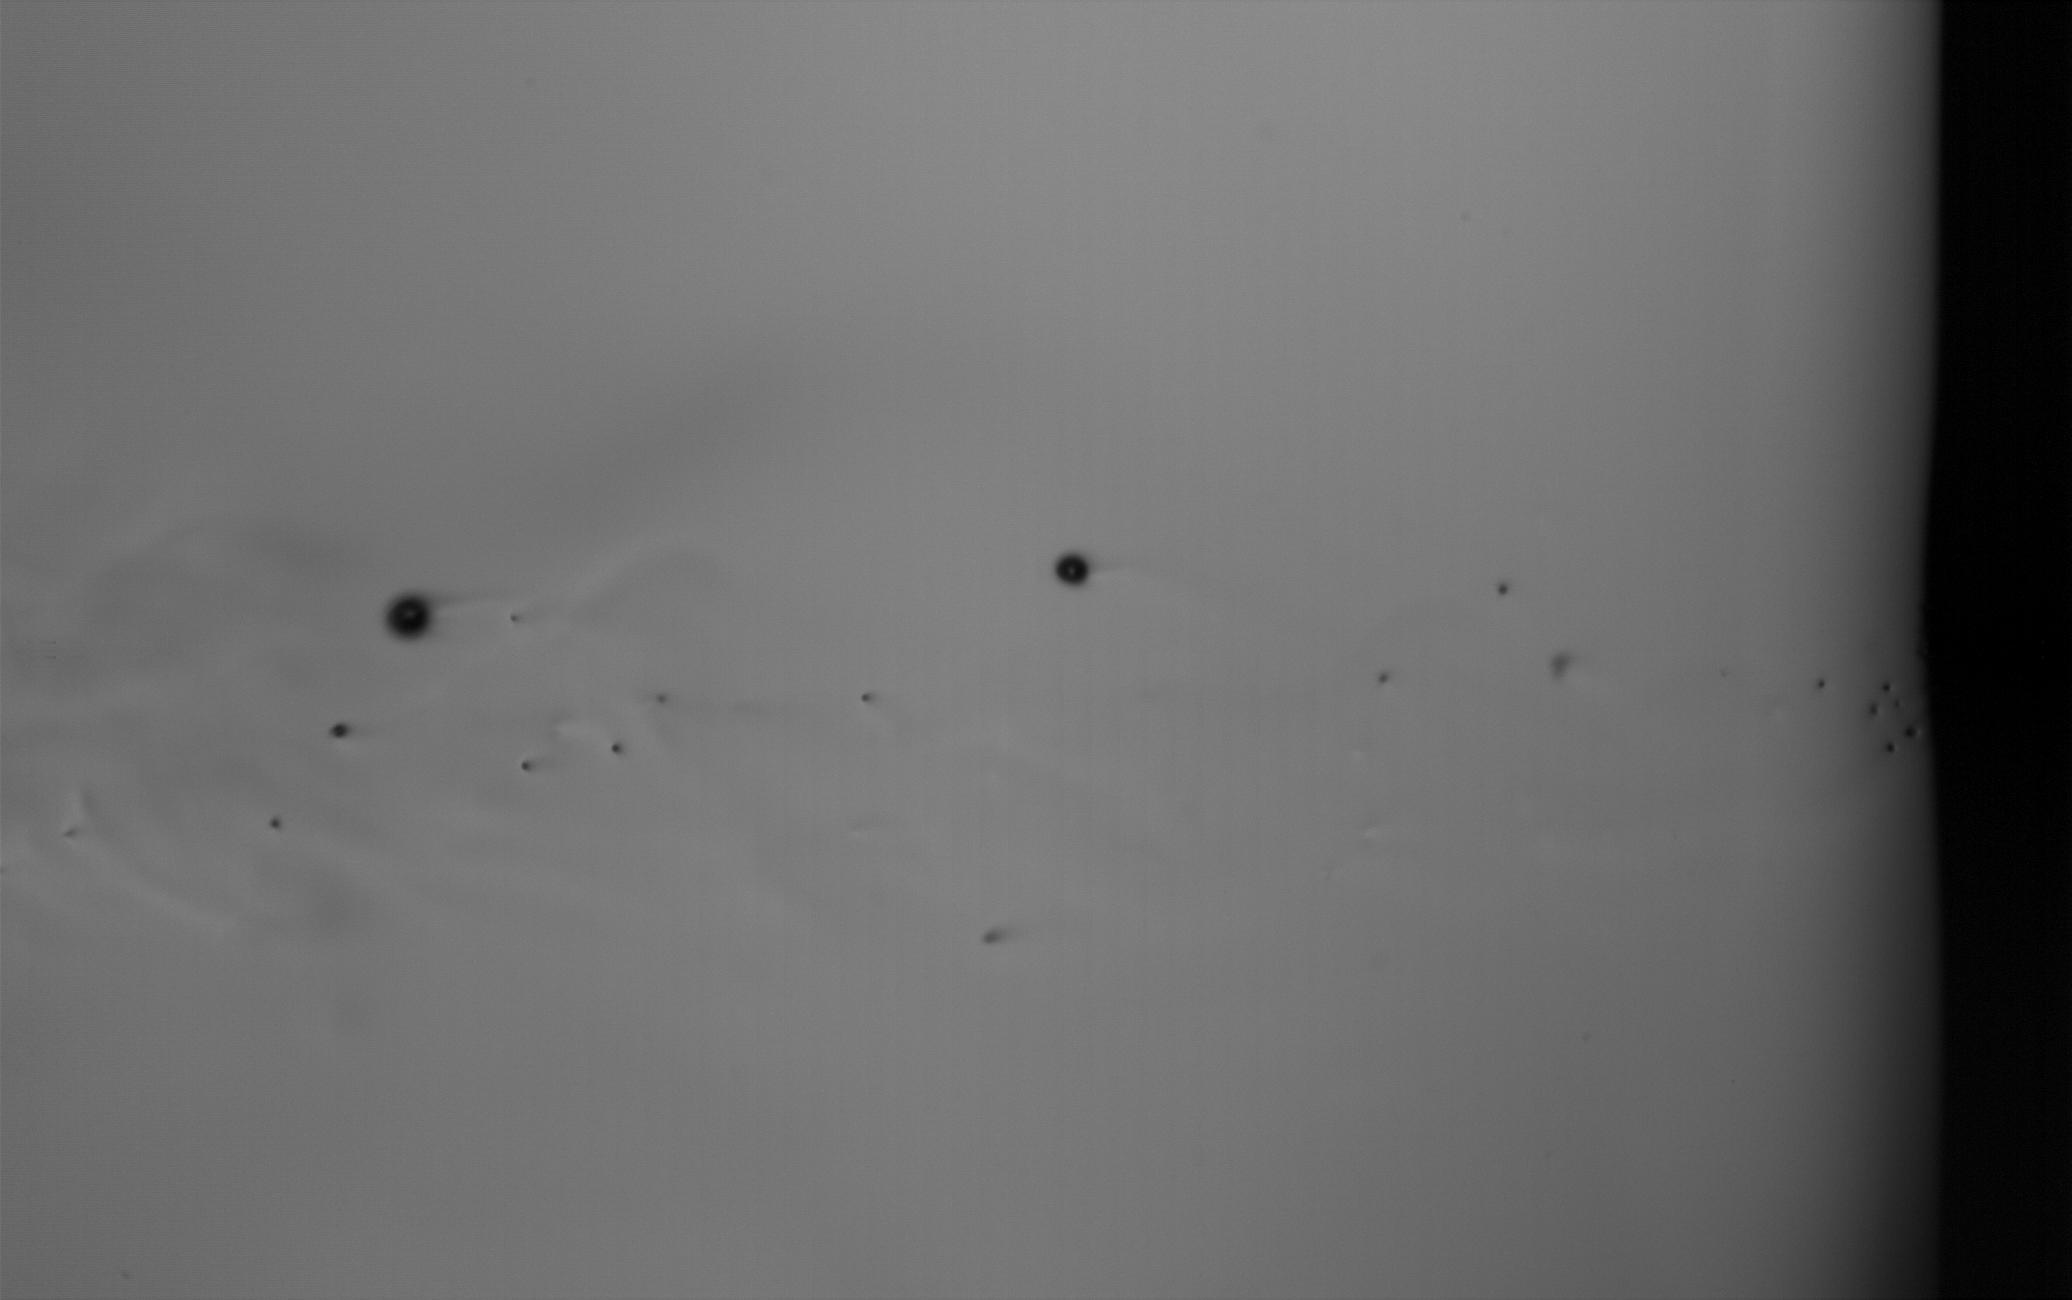Blurry: (1545, 653, 1575, 681), (1870, 699, 1880, 717), (1892, 695, 1903, 711)
ClassicalEvaporation: (383, 592, 430, 640), (1052, 550, 1091, 589), (328, 720, 347, 741), (1904, 723, 1916, 737), (611, 741, 621, 753), (519, 759, 530, 771), (1816, 678, 1826, 690), (1880, 681, 1891, 693), (859, 692, 870, 702), (1377, 672, 1388, 683), (509, 613, 519, 623), (1886, 741, 1895, 753), (1499, 584, 1508, 595), (269, 818, 278, 827), (659, 695, 665, 702)
